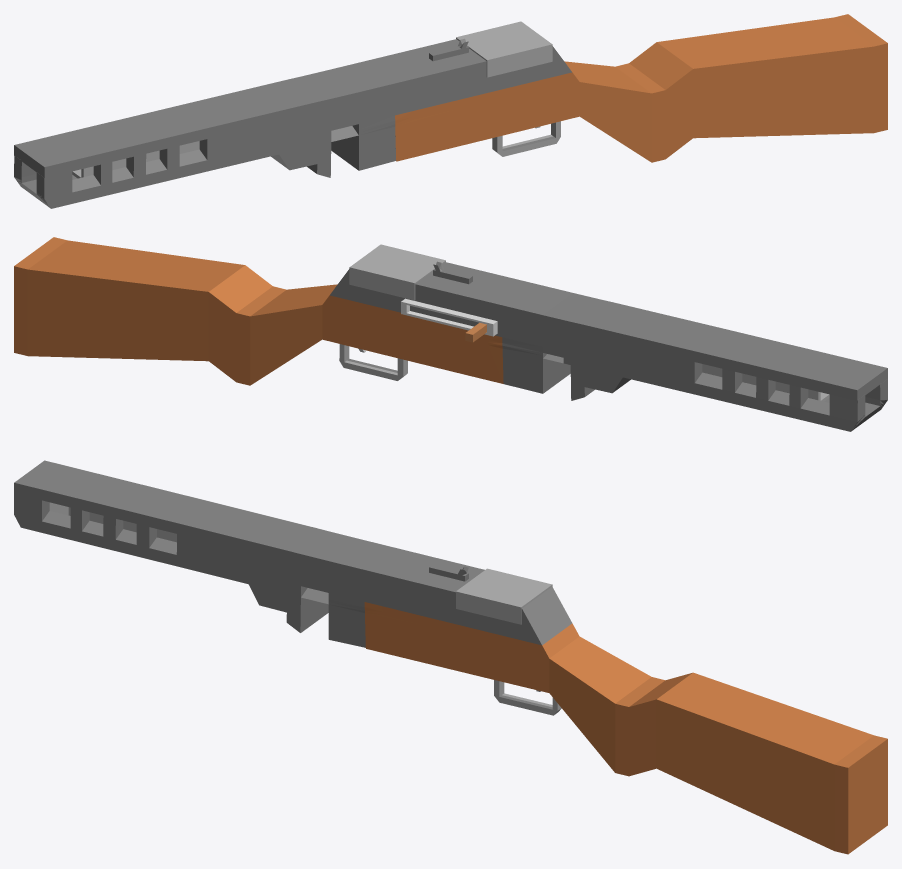
Rendered from gun 1.fbx.
The picture shows the model from 3 angles, top to bottom: view 1: azimuth 30°, elevation 25°; view 2: azimuth 150°, elevation 25°; view 3: azimuth 330°, elevation 25°; orthographic projection.
Visible parts, largest first — view 1: Body; view 2: Body; view 3: Body.
Part boxes in pixels (box(x1,y1,x2,y2)): Body: box(14, 14, 887, 208); Body: box(14, 237, 887, 431); Body: box(14, 460, 887, 854).
Bounding box in the file's own units: 60.8 × 11.99 × 6.66.
